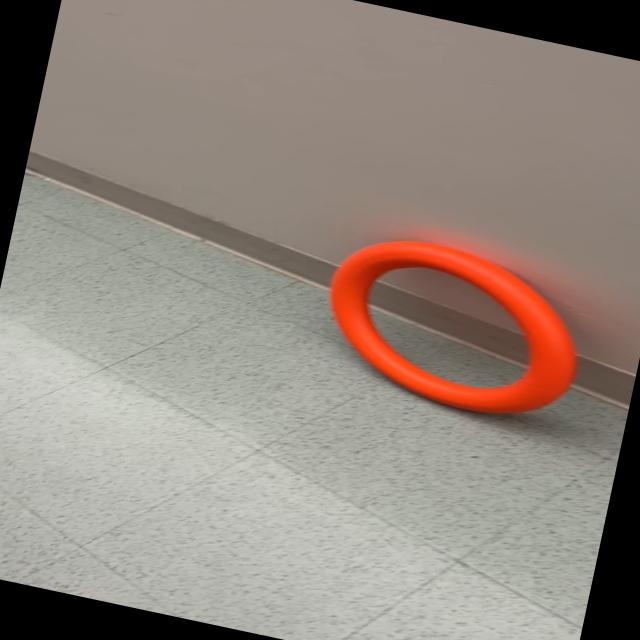note: (308, 221, 598, 432)
